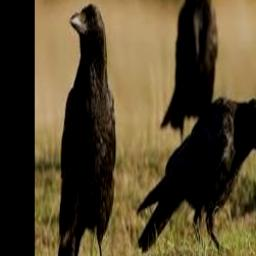Crow: (137, 96, 256, 255), (58, 3, 116, 256), (160, 0, 217, 146)
